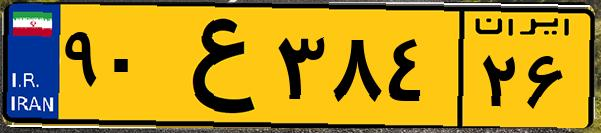0: (110, 28, 158, 98)
2: (475, 38, 525, 113)
3: (270, 28, 330, 110)
4: (385, 28, 445, 110)
6: (525, 38, 570, 115)
8: (330, 28, 385, 110)
9: (57, 26, 110, 100)
ع: (158, 12, 270, 120)
